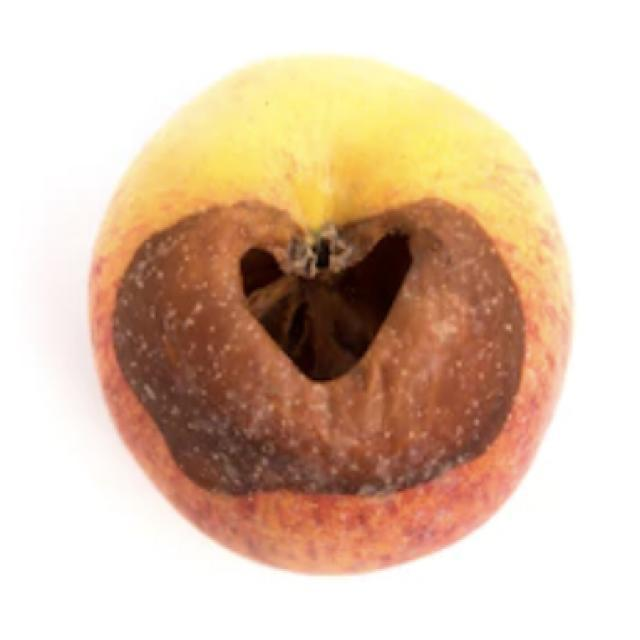Rotten: (80, 79, 615, 588)
